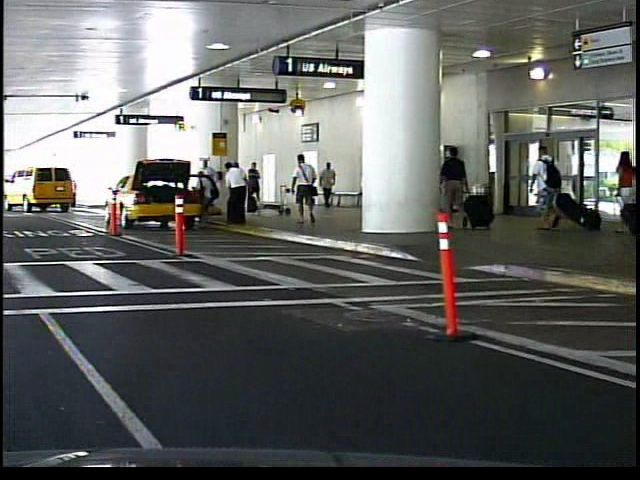person: (521, 142, 562, 234), (603, 145, 638, 231), (439, 141, 467, 230), (286, 151, 318, 225), (317, 159, 336, 210)
